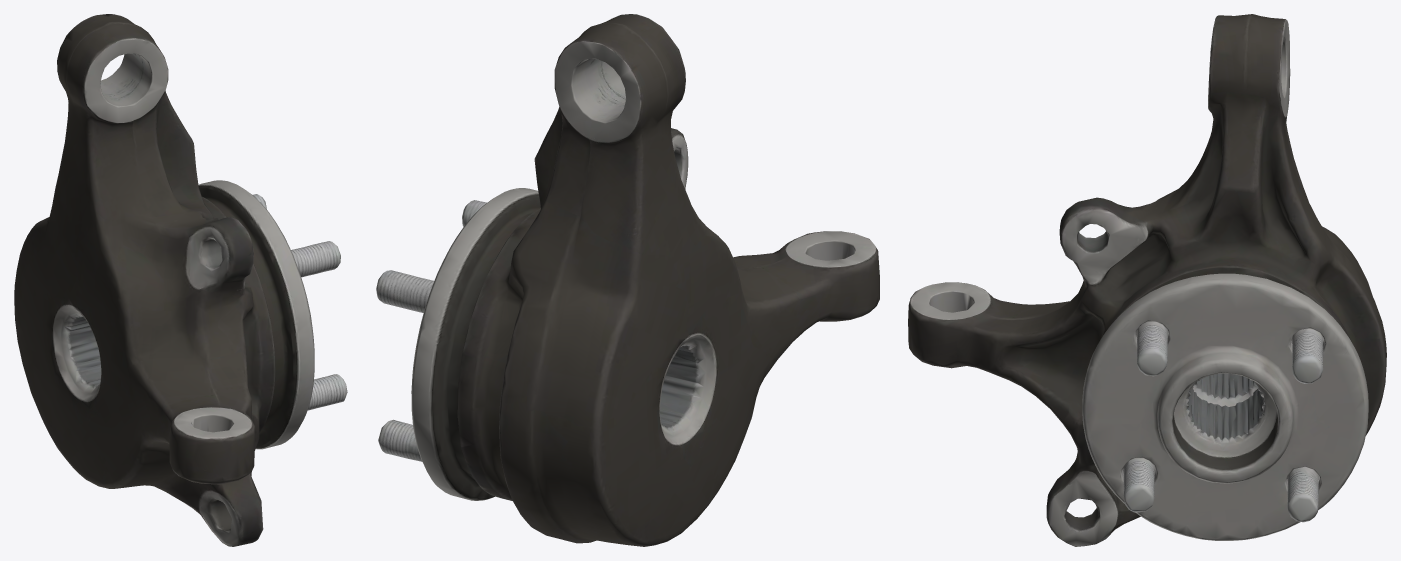
The model's file is front-axle-hub-drum.glb.
The picture shows the model from 3 angles, left to right: view 1: azimuth 30°, elevation 25°; view 2: azimuth 150°, elevation 25°; view 3: azimuth 270°, elevation 25°; orthographic projection. The views are drawn at different scales.
Visible parts, largest first — view 1: tripo_node_62993a4d-3d90-4490-9f70-c9dff25caae8; view 2: tripo_node_62993a4d-3d90-4490-9f70-c9dff25caae8; view 3: tripo_node_62993a4d-3d90-4490-9f70-c9dff25caae8.
Boxes of the visible parts, <box> form: tripo_node_62993a4d-3d90-4490-9f70-c9dff25caae8: <box>14,14,347,546</box>; tripo_node_62993a4d-3d90-4490-9f70-c9dff25caae8: <box>376,14,879,546</box>; tripo_node_62993a4d-3d90-4490-9f70-c9dff25caae8: <box>908,14,1386,546</box>.
Bounding box in the file's own units: 0.5639 × 1 × 0.8673.
1 material, 1 textured.
